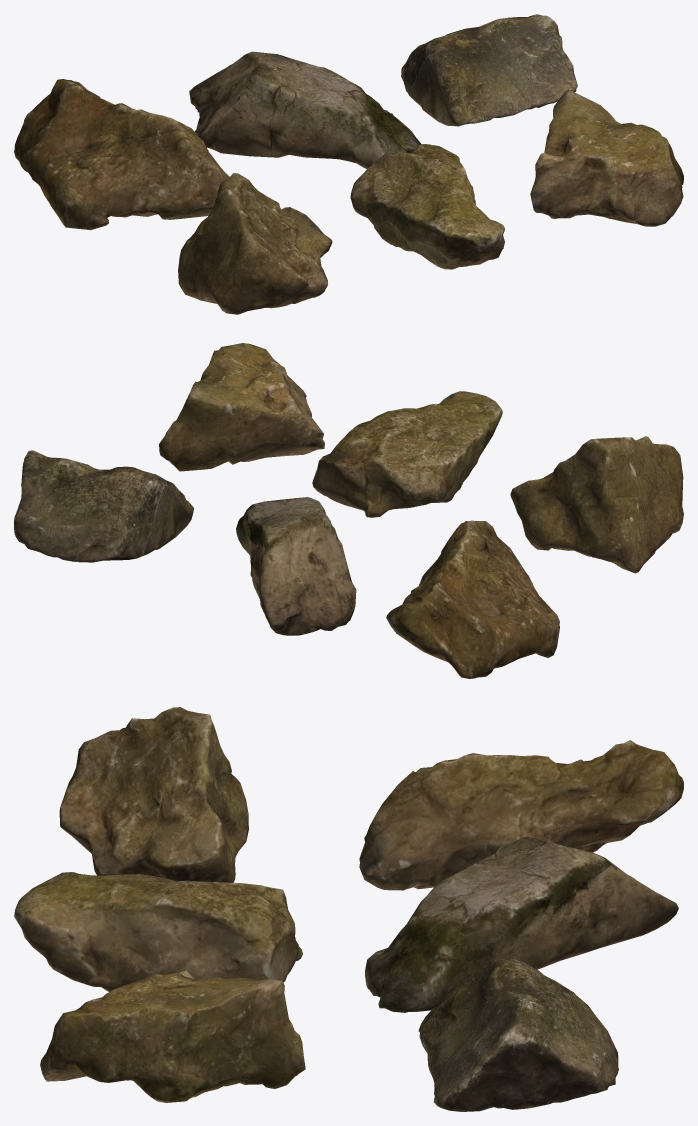
The model's file is rocks_mossy_large_set.glb.
3 renders of one model, top to bottom at view 1: azimuth 30°, elevation 25°; view 2: azimuth 150°, elevation 25°; view 3: azimuth 270°, elevation 25°, orthographic. The views are drawn at different scales.
Parts seen in each view (by area): view 1: rock_moss_set_01_rock01, rock_moss_set_01_rock02, rock_moss_set_01_rock06, rock_moss_set_01_rock04, rock_moss_set_01_rock03, rock_moss_set_01_rock05; view 2: rock_moss_set_01_rock04, rock_moss_set_01_rock01, rock_moss_set_01_rock05, rock_moss_set_01_rock03, rock_moss_set_01_rock06, rock_moss_set_01_rock02; view 3: rock_moss_set_01_rock01, rock_moss_set_01_rock02, rock_moss_set_01_rock05, rock_moss_set_01_rock04, rock_moss_set_01_rock06, rock_moss_set_01_rock03.
Part boxes in pixels (box(x1,y1,x2,y2)): rock_moss_set_01_rock01: box(14, 79, 229, 230); rock_moss_set_01_rock02: box(189, 51, 421, 169); rock_moss_set_01_rock06: box(530, 90, 683, 226); rock_moss_set_01_rock04: box(178, 173, 332, 314); rock_moss_set_01_rock03: box(401, 14, 577, 126); rock_moss_set_01_rock05: box(350, 144, 504, 269); rock_moss_set_01_rock04: box(510, 436, 683, 573); rock_moss_set_01_rock01: box(386, 520, 559, 678); rock_moss_set_01_rock05: box(312, 391, 502, 517); rock_moss_set_01_rock03: box(14, 450, 193, 562); rock_moss_set_01_rock06: box(159, 343, 324, 471); rock_moss_set_01_rock02: box(236, 497, 356, 635); rock_moss_set_01_rock01: box(359, 740, 683, 890); rock_moss_set_01_rock02: box(365, 836, 678, 1012); rock_moss_set_01_rock05: box(14, 872, 302, 991); rock_moss_set_01_rock04: box(59, 707, 248, 882); rock_moss_set_01_rock06: box(40, 970, 305, 1102); rock_moss_set_01_rock03: box(418, 956, 618, 1111).
Bounding box in the file's own units: 8 × 1.76 × 6.94.
Materials: 1 (1 with a texture image).
